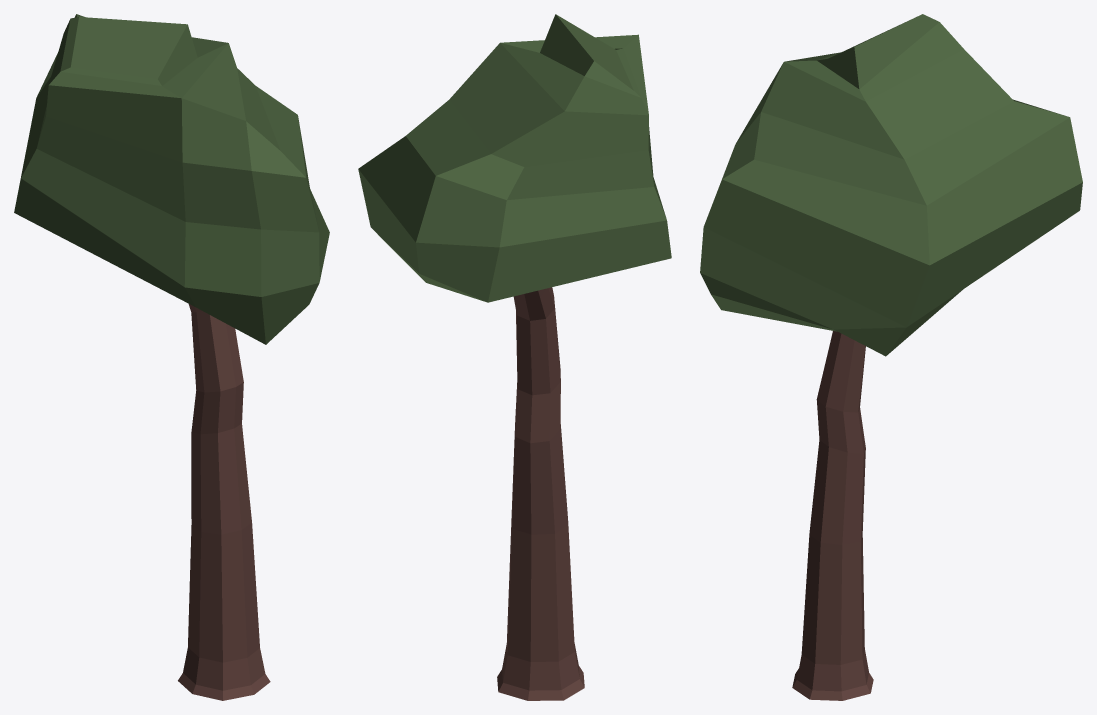
The model's file is Orange_2.gltf.
3 views of the same model, side by side, from view 1: azimuth 30°, elevation 25°; view 2: azimuth 150°, elevation 25°; view 3: azimuth 270°, elevation 25° (orthographic). The views are drawn at different scales.
Parts seen in each view (by area): view 1: Orange_2; view 2: Orange_2; view 3: Orange_2.
Part boxes in pixels (left/top/right/bottom): Orange_2: left=14, top=14, right=329, bottom=700; Orange_2: left=358, top=14, right=671, bottom=700; Orange_2: left=700, top=14, right=1082, bottom=700.
Size of the model in its own units: 0.4385 by 0.9389 by 0.5213.
